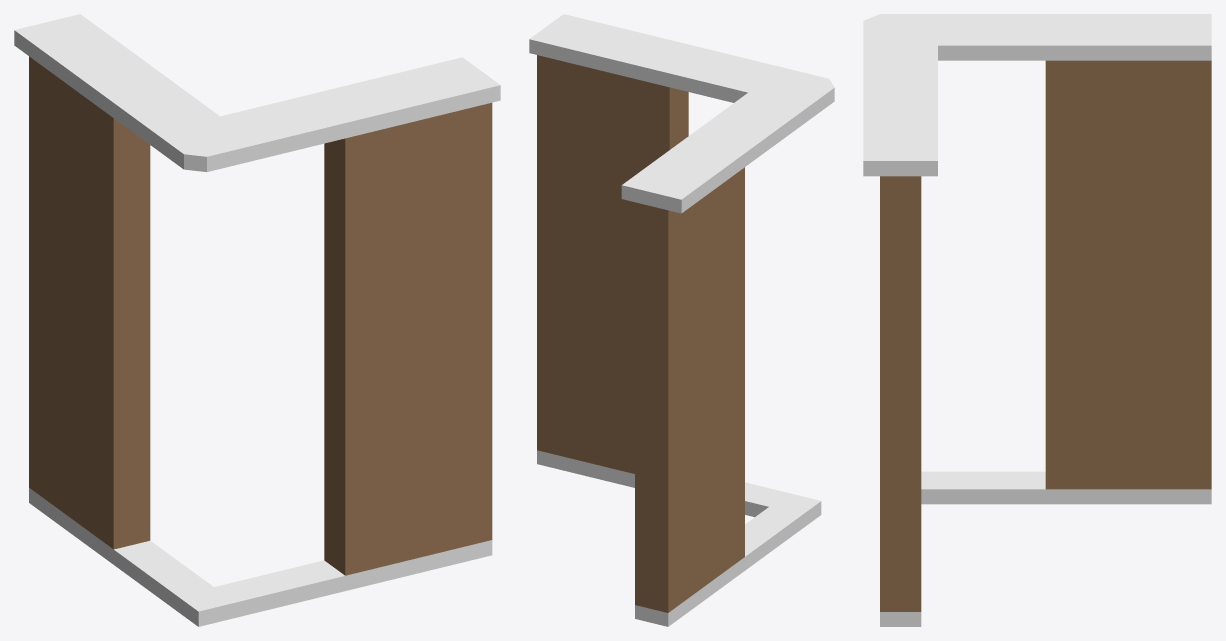
The model's file is SM_200x300_HighWindow_Corner.fbx.
The picture shows the model from 3 angles, left to right: view 1: azimuth 30°, elevation 25°; view 2: azimuth 150°, elevation 25°; view 3: azimuth 270°, elevation 25°; orthographic projection. The views are drawn at different scales.
Parts seen in each view (by area): view 1: SM_200x300_HighWindow_Corner; view 2: SM_200x300_HighWindow_Corner; view 3: SM_200x300_HighWindow_Corner.
Part boxes in pixels (bbox=[...]): SM_200x300_HighWindow_Corner: bbox=[14, 14, 500, 626]; SM_200x300_HighWindow_Corner: bbox=[529, 14, 834, 626]; SM_200x300_HighWindow_Corner: bbox=[863, 14, 1211, 626].
Size of what is drawn, in the model's own units: 210 by 210 by 310.
